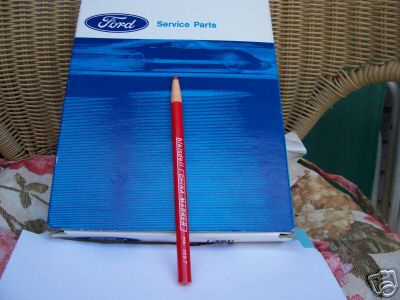pen_tip: (163, 74, 185, 109)
